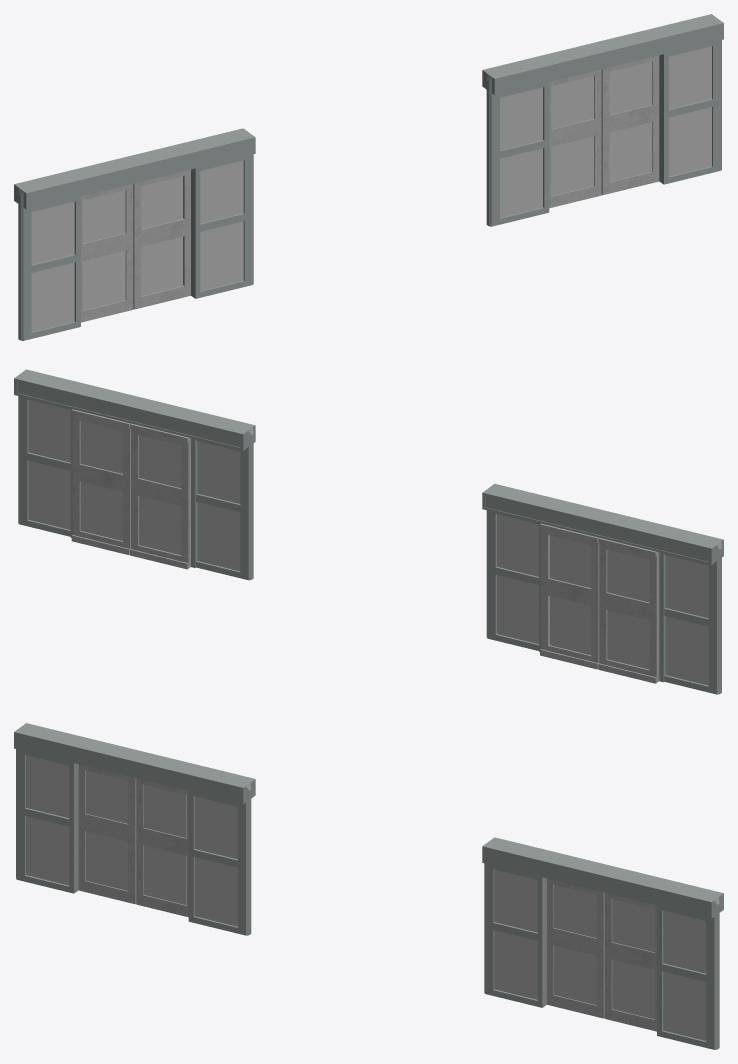
File: slidingDoors_EMBED.fbx
3 renders of one model, top to bottom at view 1: azimuth 30°, elevation 25°; view 2: azimuth 150°, elevation 25°; view 3: azimuth 330°, elevation 25°, orthographic.
Visible parts, largest first — view 1: Frame, Frame.001, Frame_Window, Frame_Window.001, Door_Window.001, Door_Window, Door1.001, Door1; view 2: Frame.001, Frame, Frame_Window.001, Frame_Window, Door1, Door1.001, Door_Window.001, Door_Window; view 3: Frame.001, Frame, Frame_Window.001, Frame_Window, Door_Window, Door_Window.001, Door1, Door1.001.
Boxes of the visible parts, bbox=[...] form: Frame: bbox=[14, 128, 255, 340]; Frame.001: bbox=[482, 14, 723, 226]; Frame_Window: bbox=[31, 160, 243, 331]; Frame_Window.001: bbox=[500, 46, 711, 217]; Door_Window.001: bbox=[551, 61, 652, 196]; Door_Window: bbox=[83, 176, 182, 310]; Door1.001: bbox=[549, 55, 659, 208]; Door1: bbox=[81, 169, 190, 322]; Frame.001: bbox=[14, 369, 255, 580]; Frame: bbox=[482, 483, 723, 694]; Frame_Window.001: bbox=[28, 400, 240, 571]; Frame_Window: bbox=[497, 514, 708, 685]; Door1: bbox=[540, 523, 659, 683]; Door1.001: bbox=[71, 409, 190, 569]; Door_Window.001: bbox=[80, 421, 181, 555]; Door_Window: bbox=[550, 535, 649, 669]; Frame.001: bbox=[482, 837, 723, 1049]; Frame: bbox=[14, 723, 255, 935]; Frame_Window.001: bbox=[494, 869, 706, 1040]; Frame_Window: bbox=[26, 755, 237, 926]; Door_Window: bbox=[85, 770, 186, 904]; Door_Window.001: bbox=[554, 885, 654, 1019]; Door1: bbox=[78, 764, 188, 917]; Door1.001: bbox=[547, 878, 656, 1031].
Bounding box in the file's own units: 5841 × 1192 × 178.
Materials: 4 (3 with a texture image).
